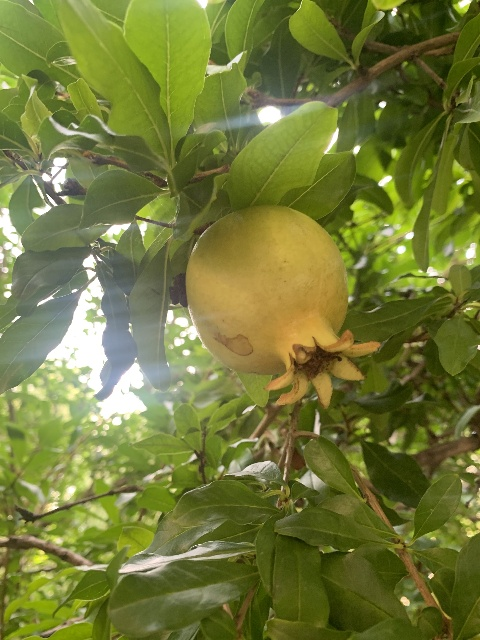mid-growth: (184, 205, 382, 411)
